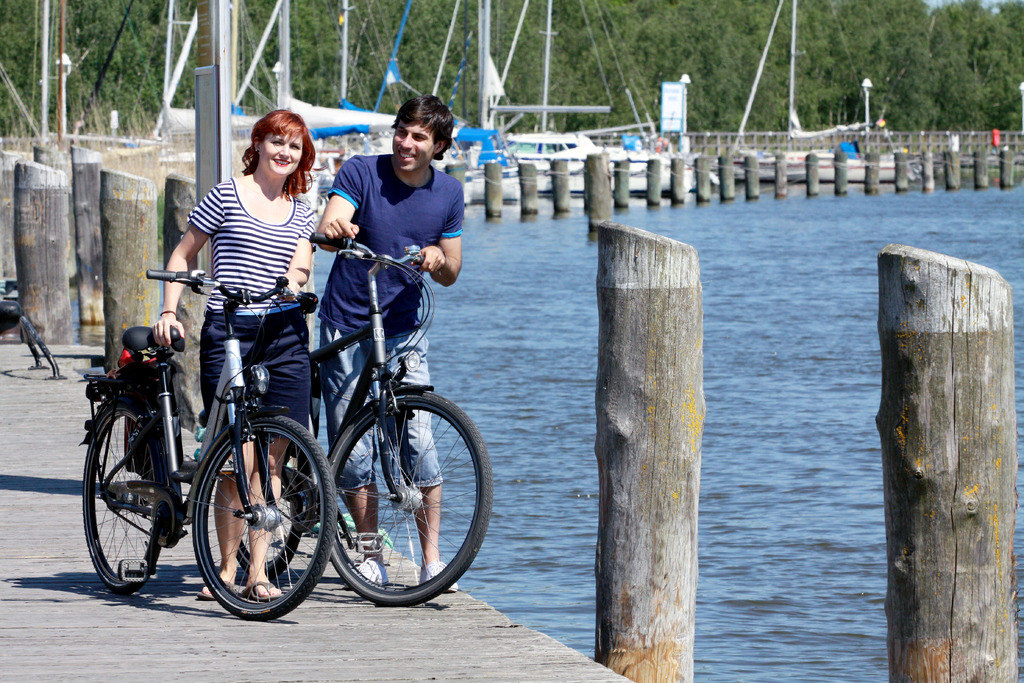Bike: (63, 286, 339, 627)
